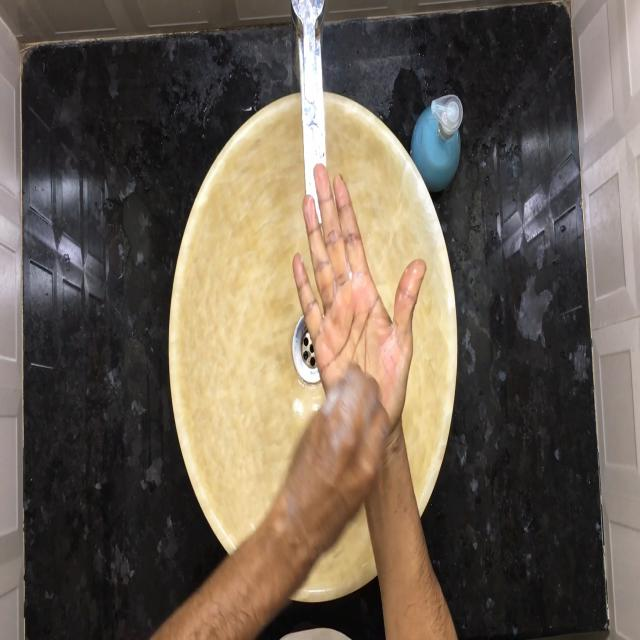step_6: (288, 158, 429, 516)
